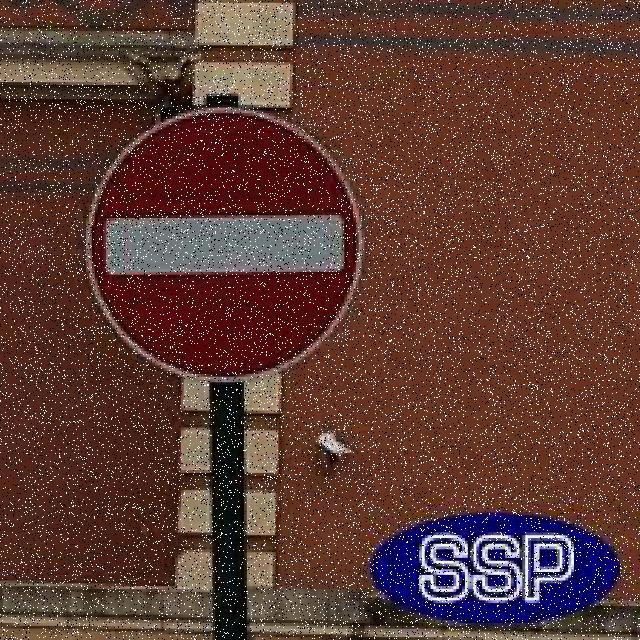no entry: (86, 108, 362, 380)
